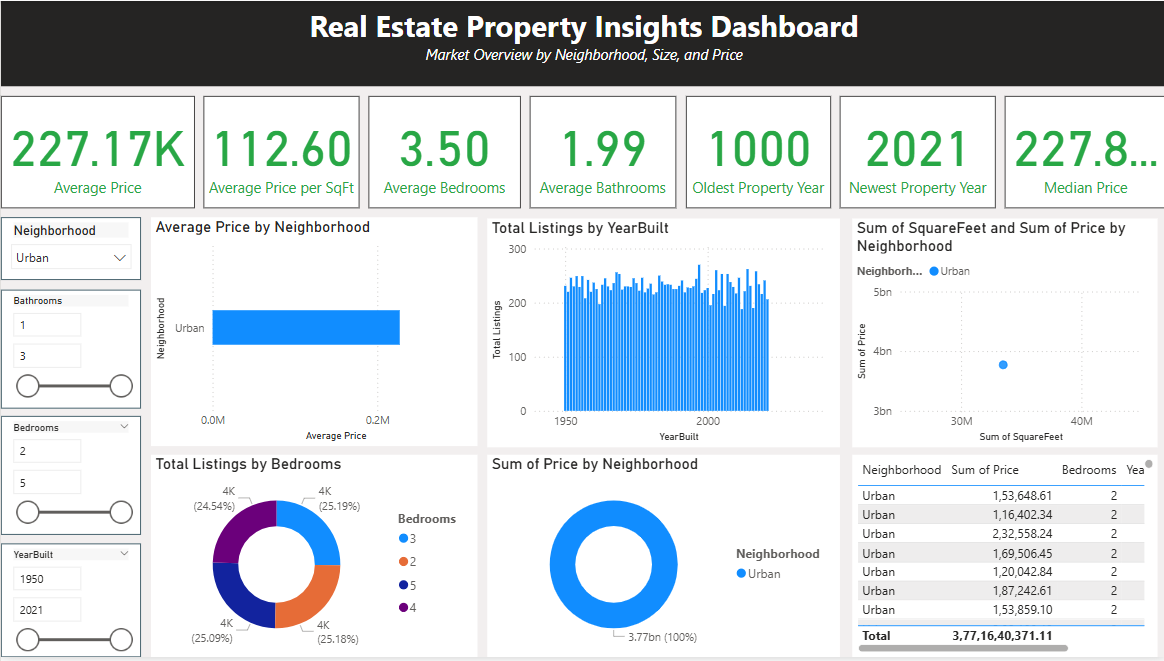

What the dashboard file says about the page in this screenshot:
{"tool":"powerbi","page":{"name":"Page 1","canvas":[1280,720],"ordinal":0},"visuals":[{"type":"textbox","box":[0,0,1280.3,93.3],"z":0},{"type":"card","fields":{"Values":["housing_price_dataset.Average Price"]},"box":[0,104.3,212.7,123.5],"z":1000},{"type":"card","fields":{"Values":["housing_price_dataset.Average Price per SqFt"]},"box":[222.3,104.3,171.5,123.5],"z":2000},{"type":"card","fields":{"Values":["housing_price_dataset.Average Bedrooms"]},"box":[403.4,104.3,167.4,123.5],"z":3000},{"type":"card","fields":{"Values":["housing_price_dataset.Average Bathrooms"]},"box":[580.4,104.3,160.5,123.5],"z":4000},{"type":"card","fields":{"Values":["housing_price_dataset.Oldest Property Year"]},"box":[752,104.3,159.2,123.5],"z":5000},{"type":"card","fields":{"Values":["housing_price_dataset.Newest Property Year"]},"box":[920.8,104.3,171.5,123.5],"z":6000},{"type":"card","fields":{"Values":["housing_price_dataset.Median Price"]},"box":[1101.9,104.3,178.4,123.5],"z":7000},{"type":"slicer","fields":{"Values":["housing_price_dataset.Neighborhood"]},"box":[0,237.4,153.7,68.6],"z":8000},{"type":"slicer","box":[0,317,153.7,130.4],"z":9000},{"type":"slicer","fields":{"Values":["housing_price_dataset.Bedrooms"]},"box":[0,455.6,153.7,130.4],"z":10000},{"type":"slicer","fields":{"Values":["housing_price_dataset.YearBuilt"]},"box":[0,595.5,153.7,124.9],"z":11000},{"type":"barChart","fields":{"Y":["housing_price_dataset.Average Price"],"Category":["housing_price_dataset.Neighborhood"]},"box":[164.7,237.4,358.1,251.1],"z":12000},{"type":"columnChart","fields":{"Category":["housing_price_dataset.YearBuilt"],"Y":["housing_price_dataset.Total Listings"]},"box":[533.8,238.8,387,251.1],"z":13000},{"type":"scatterChart","fields":{"X":["Sum(housing_price_dataset.SquareFeet)"],"Y":["Sum(housing_price_dataset.Price)"],"Series":["housing_price_dataset.Neighborhood"]},"box":[934.5,238.8,334.8,251.1],"z":14000},{"type":"donutChart","fields":{"Category":["housing_price_dataset.Bedrooms"],"Y":["housing_price_dataset.Total Listings"]},"box":[165,498,358,222],"z":15000},{"type":"donutChart","fields":{"Category":["housing_price_dataset.Neighborhood"],"Y":["Sum(housing_price_dataset.Price)"]},"box":[534,498,387,222],"z":16000},{"type":"tableEx","fields":{"Values":["housing_price_dataset.Neighborhood","Sum(housing_price_dataset.Price)","housing_price_dataset.Bedrooms","housing_price_dataset.YearBuilt","housing_price_dataset.SquareFeet"]},"box":[934,498,335,222],"z":17000}]}

Visuals, with their boxes in screenshot pixels (x1, y1, x2, y2), scaled from the page's 1280x720 canvas onto the 1164x661 screenshot:
textbox: detection(0, 0, 1163, 86)
card - housing_price_dataset.Average Price: detection(0, 96, 193, 209)
card - housing_price_dataset.Average Price per SqFt: detection(202, 96, 358, 209)
card - housing_price_dataset.Average Bedrooms: detection(367, 96, 519, 209)
card - housing_price_dataset.Average Bathrooms: detection(528, 96, 674, 209)
card - housing_price_dataset.Oldest Property Year: detection(684, 96, 829, 209)
card - housing_price_dataset.Newest Property Year: detection(837, 96, 993, 209)
card - housing_price_dataset.Median Price: detection(1002, 96, 1163, 209)
slicer - housing_price_dataset.Neighborhood: detection(0, 218, 140, 281)
slicer: detection(0, 291, 140, 411)
slicer - housing_price_dataset.Bedrooms: detection(0, 418, 140, 538)
slicer - housing_price_dataset.YearBuilt: detection(0, 547, 140, 660)
barChart - housing_price_dataset.Average Price x housing_price_dataset.Neighborhood: detection(150, 218, 475, 448)
columnChart - housing_price_dataset.YearBuilt x housing_price_dataset.Total Listings: detection(485, 219, 837, 450)
scatterChart - Sum(housing_price_dataset.SquareFeet) x Sum(housing_price_dataset.Price): detection(850, 219, 1154, 450)
donutChart - housing_price_dataset.Bedrooms x housing_price_dataset.Total Listings: detection(150, 457, 476, 660)
donutChart - housing_price_dataset.Neighborhood x Sum(housing_price_dataset.Price): detection(486, 457, 838, 660)
tableEx - housing_price_dataset.Neighborhood x Sum(housing_price_dataset.Price): detection(849, 457, 1154, 660)
